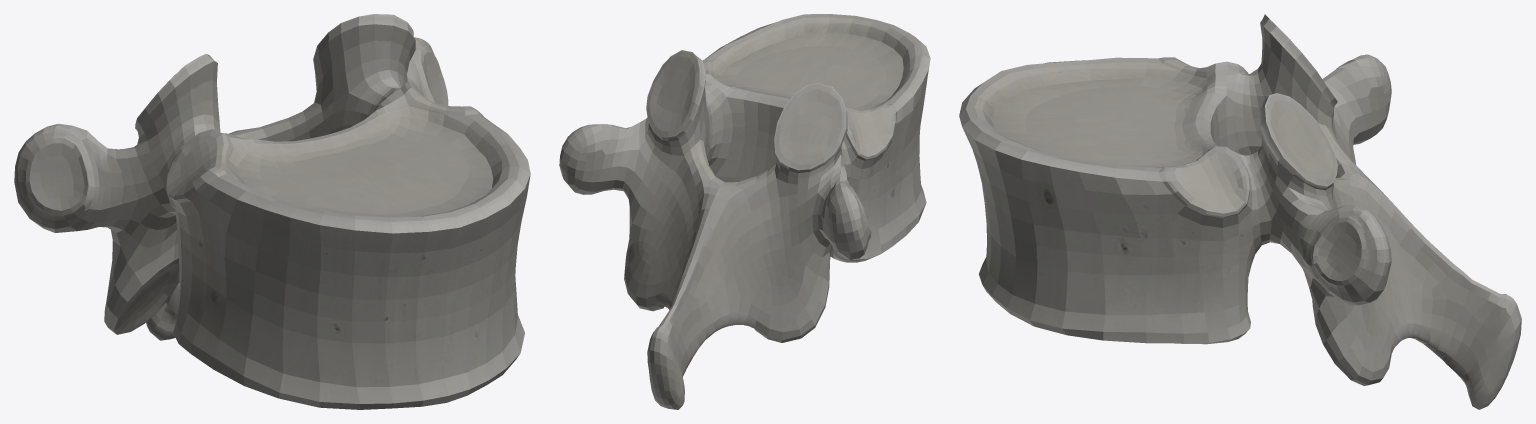
File: vertebra-t10.glb
The picture shows the model from 3 angles, left to right: view 1: azimuth 30°, elevation 25°; view 2: azimuth 150°, elevation 25°; view 3: azimuth 270°, elevation 25°; orthographic projection. The views are drawn at different scales.
Visible parts, largest first — view 1: Spine_T10; view 2: Spine_T10; view 3: Spine_T10.
Boxes of the visible parts, <box> form: Spine_T10: <box>14,14,530,409</box>; Spine_T10: <box>559,14,930,409</box>; Spine_T10: <box>959,14,1521,409</box>.
Bounding box in the file's own units: 6.02 × 5.31 × 7.76.
1 material, 1 textured.
